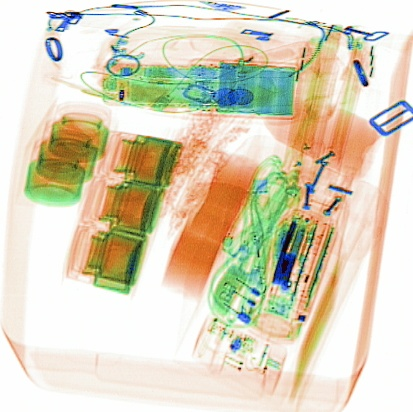powerbank: (186, 52, 296, 120)
